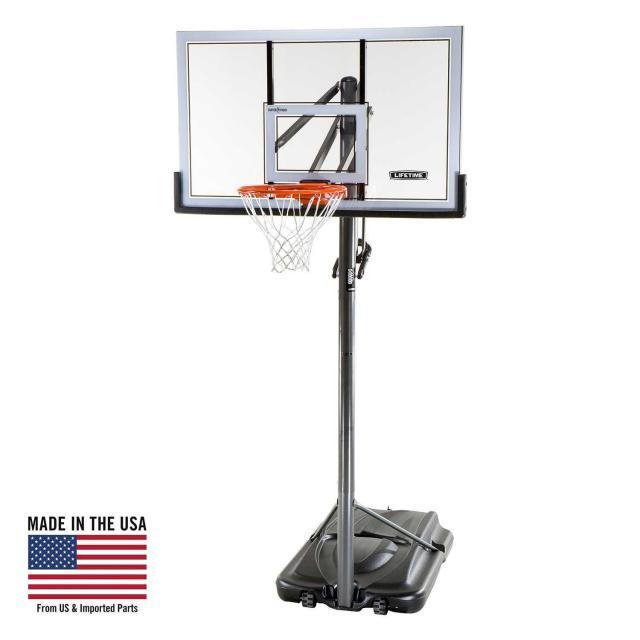hoop: (238, 185, 348, 272)
